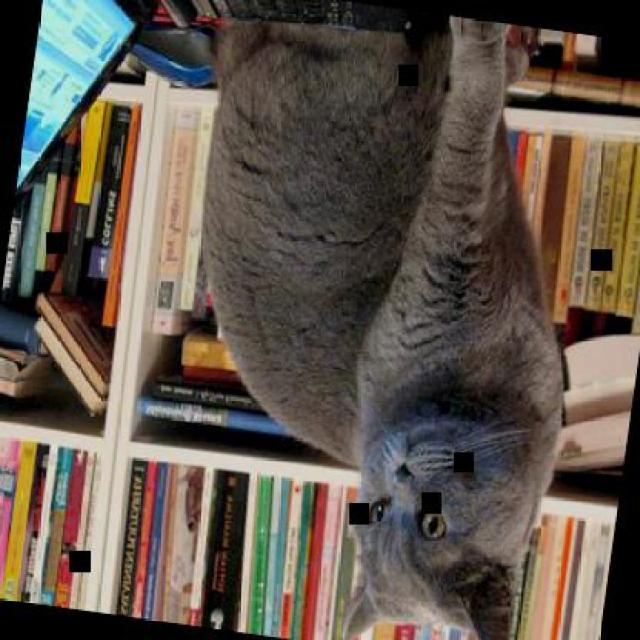cat: (135, 0, 622, 638)
